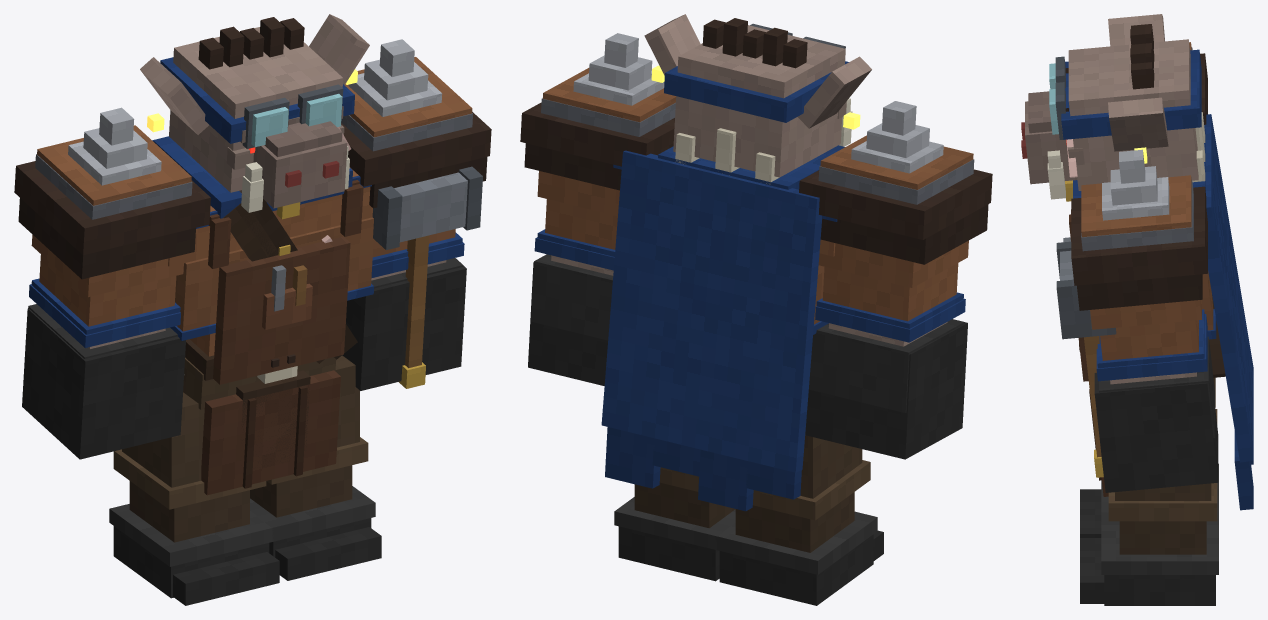
The model's file is orc_forgeron_v3.glb.
The picture shows the model from 3 angles, left to right: view 1: azimuth 30°, elevation 25°; view 2: azimuth 150°, elevation 25°; view 3: azimuth 270°, elevation 25°; orthographic projection. The views are drawn at different scales.
Parts seen in each view (by area): view 1: ArmR, Torso, Head, ArmL, LegR, LegL, HandL; view 2: Torso, ArmR, ArmL, Head, LegR, LegL; view 3: ArmL, Head, LegL, Torso, HandL, LegR, ArmR.
Boxes of the visible parts, bbox=[...] form: ArmR: bbox=[14, 107, 210, 459]; Torso: bbox=[152, 136, 374, 495]; Head: bbox=[140, 14, 369, 212]; ArmL: bbox=[341, 39, 491, 390]; LegR: bbox=[109, 392, 279, 605]; LegL: bbox=[250, 355, 381, 580]; HandL: bbox=[372, 166, 482, 388]; Torso: bbox=[601, 128, 844, 511]; ArmR: bbox=[799, 101, 992, 459]; ArmL: bbox=[520, 33, 676, 385]; Head: bbox=[644, 14, 871, 177]; LegR: bbox=[715, 427, 883, 605]; LegL: bbox=[614, 467, 735, 581]; ArmL: bbox=[1071, 149, 1218, 492]; Head: bbox=[1021, 14, 1201, 199]; LegL: bbox=[1080, 483, 1218, 605]; Torso: bbox=[1063, 112, 1253, 510]; HandL: bbox=[1056, 241, 1116, 477]; LegR: bbox=[1080, 409, 1218, 537]; ArmR: bbox=[1189, 42, 1207, 124].
Bounding box in the file's own units: 1.44 × 1.8 × 0.7308.
Materials: 45 (45 with a texture image).
